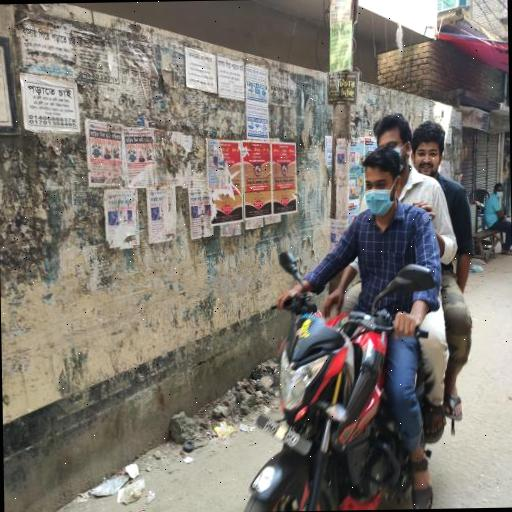no helmet: (338, 140, 409, 255)
triple riding: (236, 102, 487, 512)
